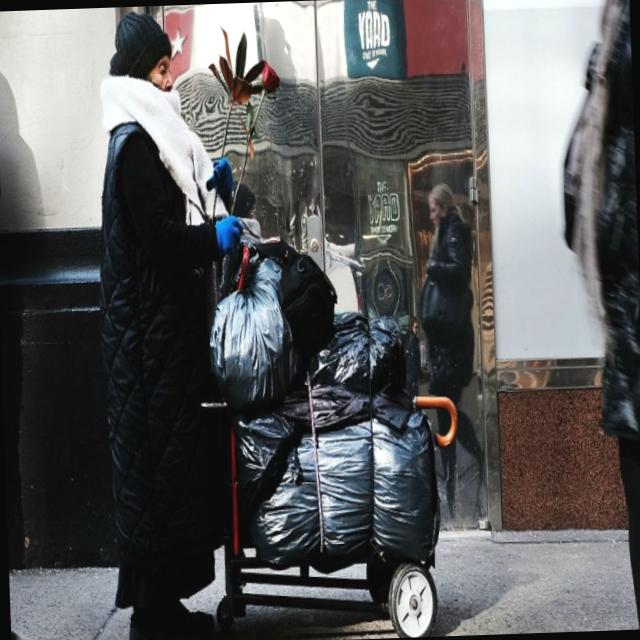garbage: (208, 225, 446, 632)
